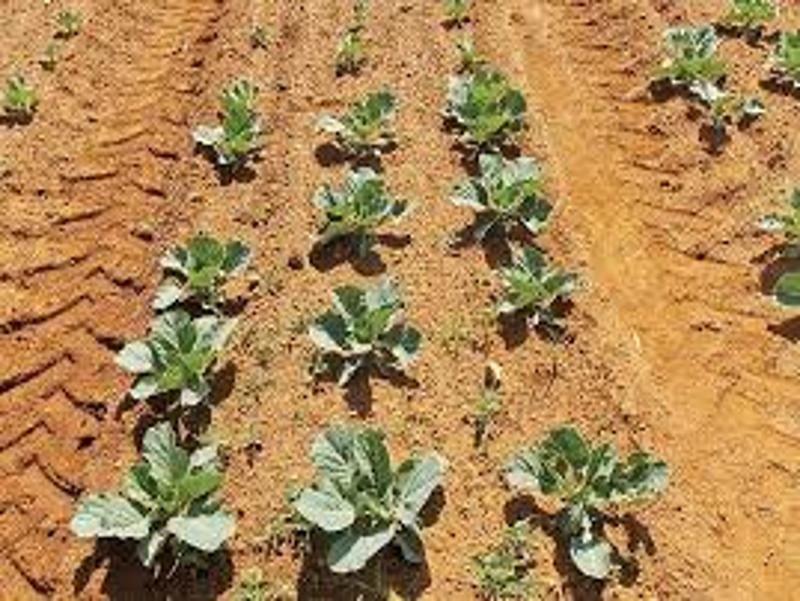cabbage: (509, 429, 673, 581), (85, 421, 241, 571), (296, 422, 438, 564), (125, 310, 244, 399), (308, 169, 416, 260), (316, 281, 414, 377), (459, 151, 554, 243), (447, 71, 532, 148), (501, 249, 578, 327), (165, 230, 250, 298), (202, 89, 270, 170), (337, 88, 403, 157)
